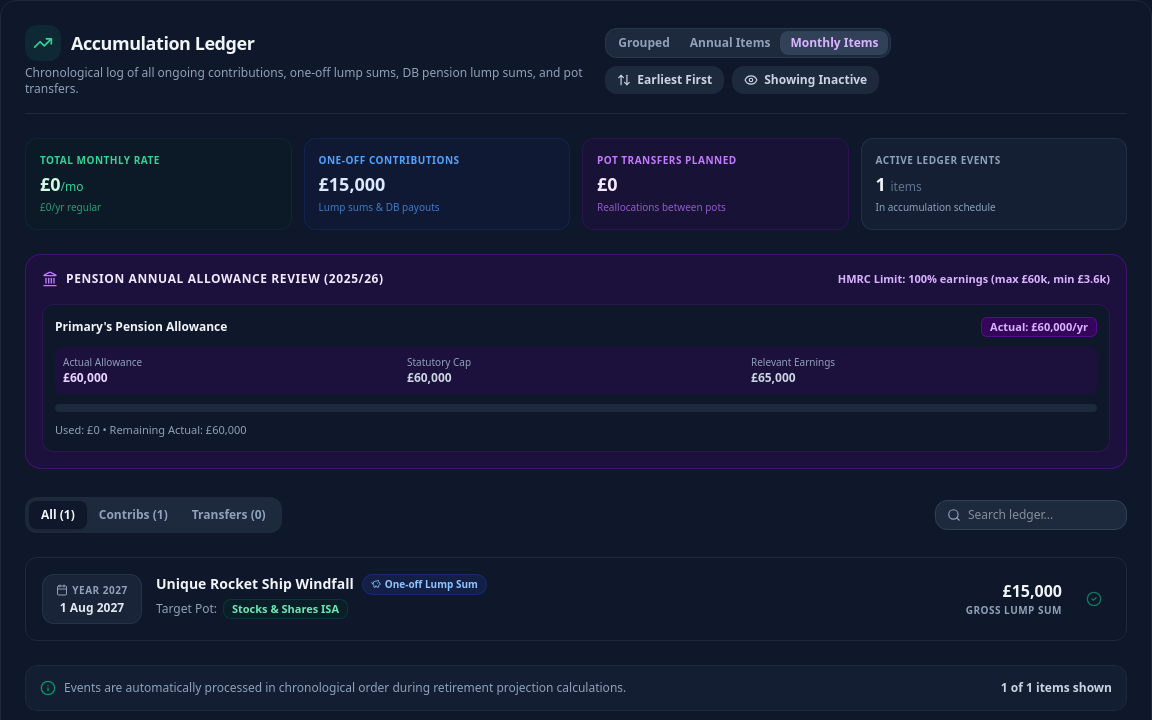
Scenario: AccumulationLedgerCard Component › searches events by name and shows empty state when no match is found
Type "Rocket" into the field with placeholder "Search ledger...". click: (1031, 515)
box: [935,500,1127,530]
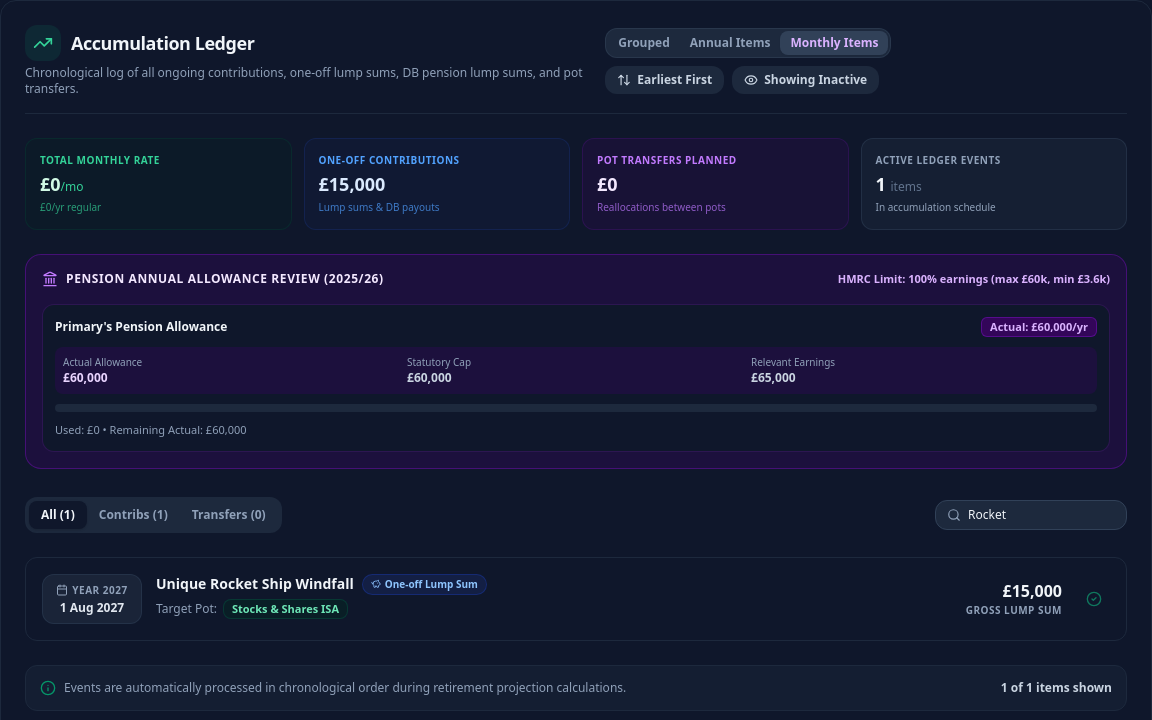
Expected: the text "Unique Rocket Ship Windfall" is shown, [156,574,354,594]
Replace the text in the field with placeholder "Search ledger..." with "NonexistentKeyword12345". click: (1031, 515)
box: [935,500,1127,530]
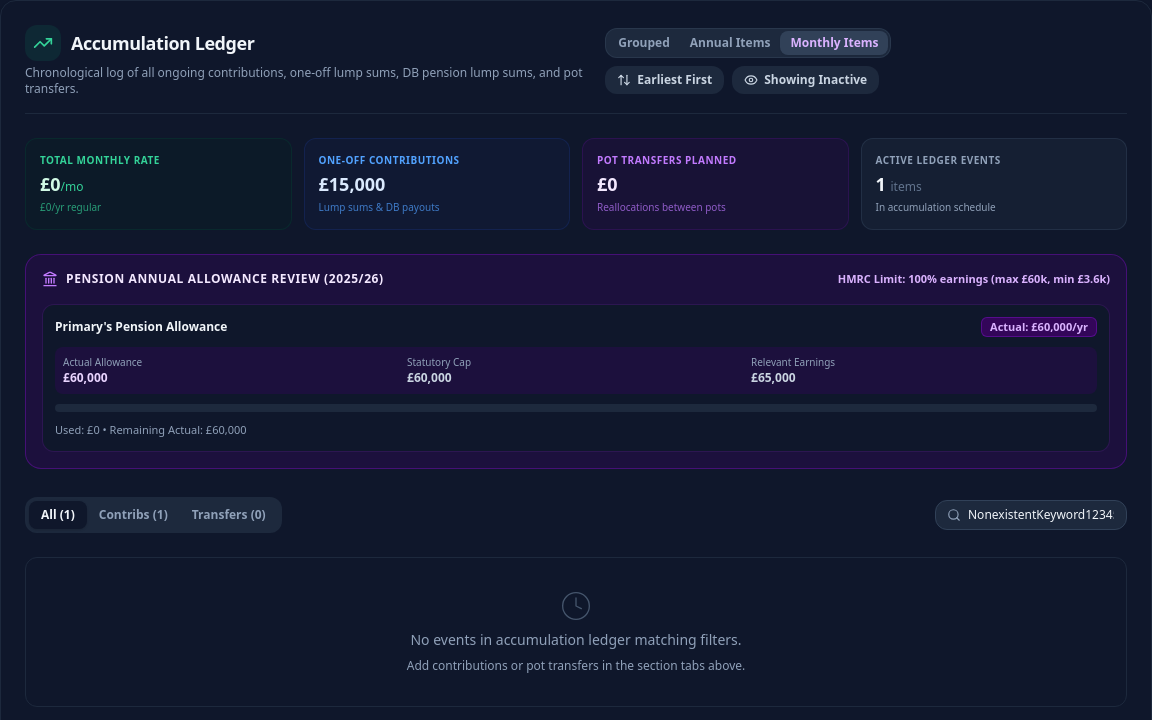
Result: the text "Unique Rocket Ship Windfall" is gone
Result: the text "No events in accumulation ledger matching filters." is shown at [410,630,742,649]
